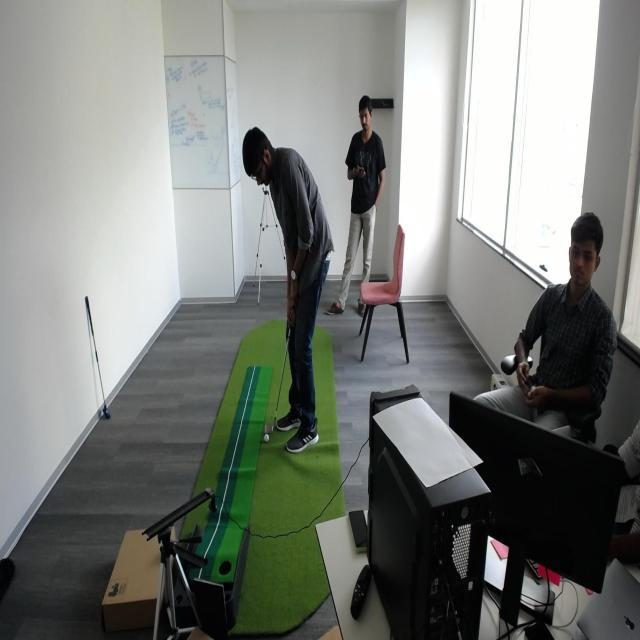ClubHead: (98, 400, 115, 430), (264, 420, 278, 436)
GolfBall: (262, 433, 272, 443)
